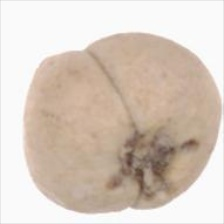L3: (39, 38, 108, 60)
L4: (24, 33, 222, 214)
